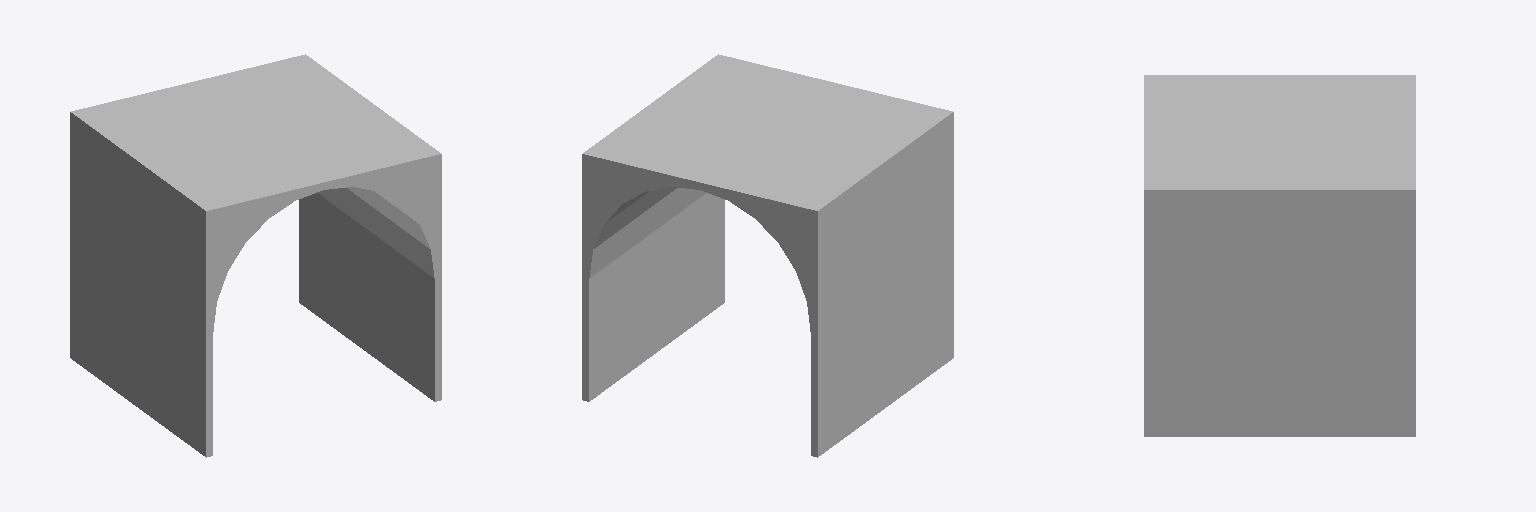
File: mousehole_tunnel_vert_32x32.obj
3 views of the same model, side by side, from view 1: azimuth 30°, elevation 25°; view 2: azimuth 150°, elevation 25°; view 3: azimuth 270°, elevation 25° (orthographic).
Visible parts, largest first — view 1: Mousehole.Entrance.001_Mousehole.Entrance; view 2: Mousehole.Entrance.001_Mousehole.Entrance; view 3: Mousehole.Entrance.001_Mousehole.Entrance.
Part boxes in pixels (x1,y1,x2,y2): Mousehole.Entrance.001_Mousehole.Entrance: (70,54,441,457); Mousehole.Entrance.001_Mousehole.Entrance: (582,54,953,457); Mousehole.Entrance.001_Mousehole.Entrance: (1144,75,1415,436).
Bounding box in the file's own units: 32 × 32 × 32.